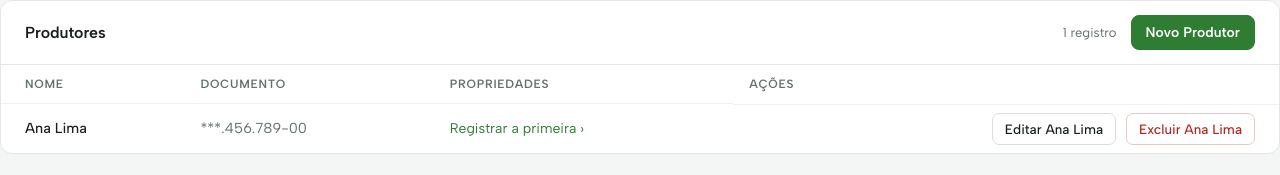
Test case: a seção de Produtores › desiste da exclusão quando a pergunta é cancelada
expect the text "Ana Lima" is shown: met, box [1,104,184,153]
What coordinates should you click on to do the following:
click the button "Excluir Ana Lima"
I would click on:
 (1190, 129)
Its box is [1126,112,1255,145].
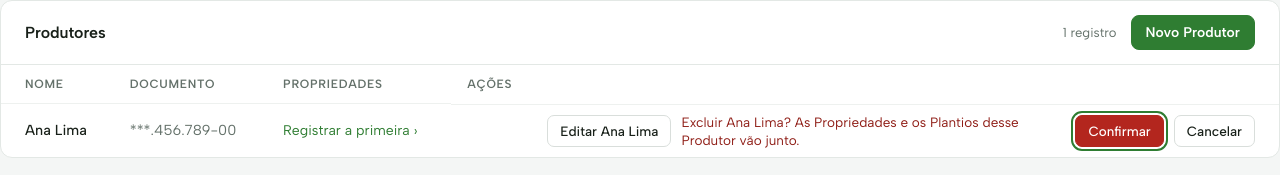
What coordinates should you click on to do the following:
click the button "Cancelar"
I would click on:
 (1214, 131)
Its box is [1174,115,1255,147].
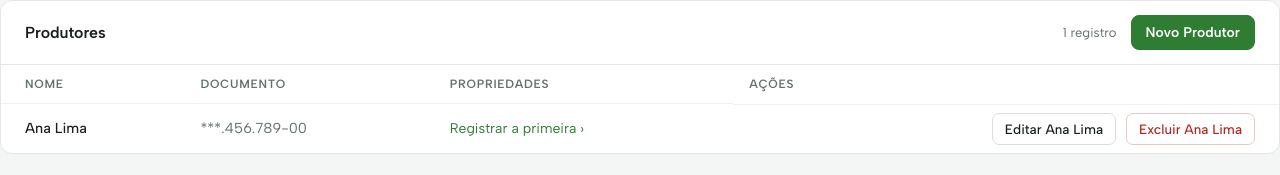
expect the text "Ana Lima" is shown: met, box [1,104,184,153]
expect the button "Excluir Ana Lima" is shown: met, box [1126,112,1255,145]
